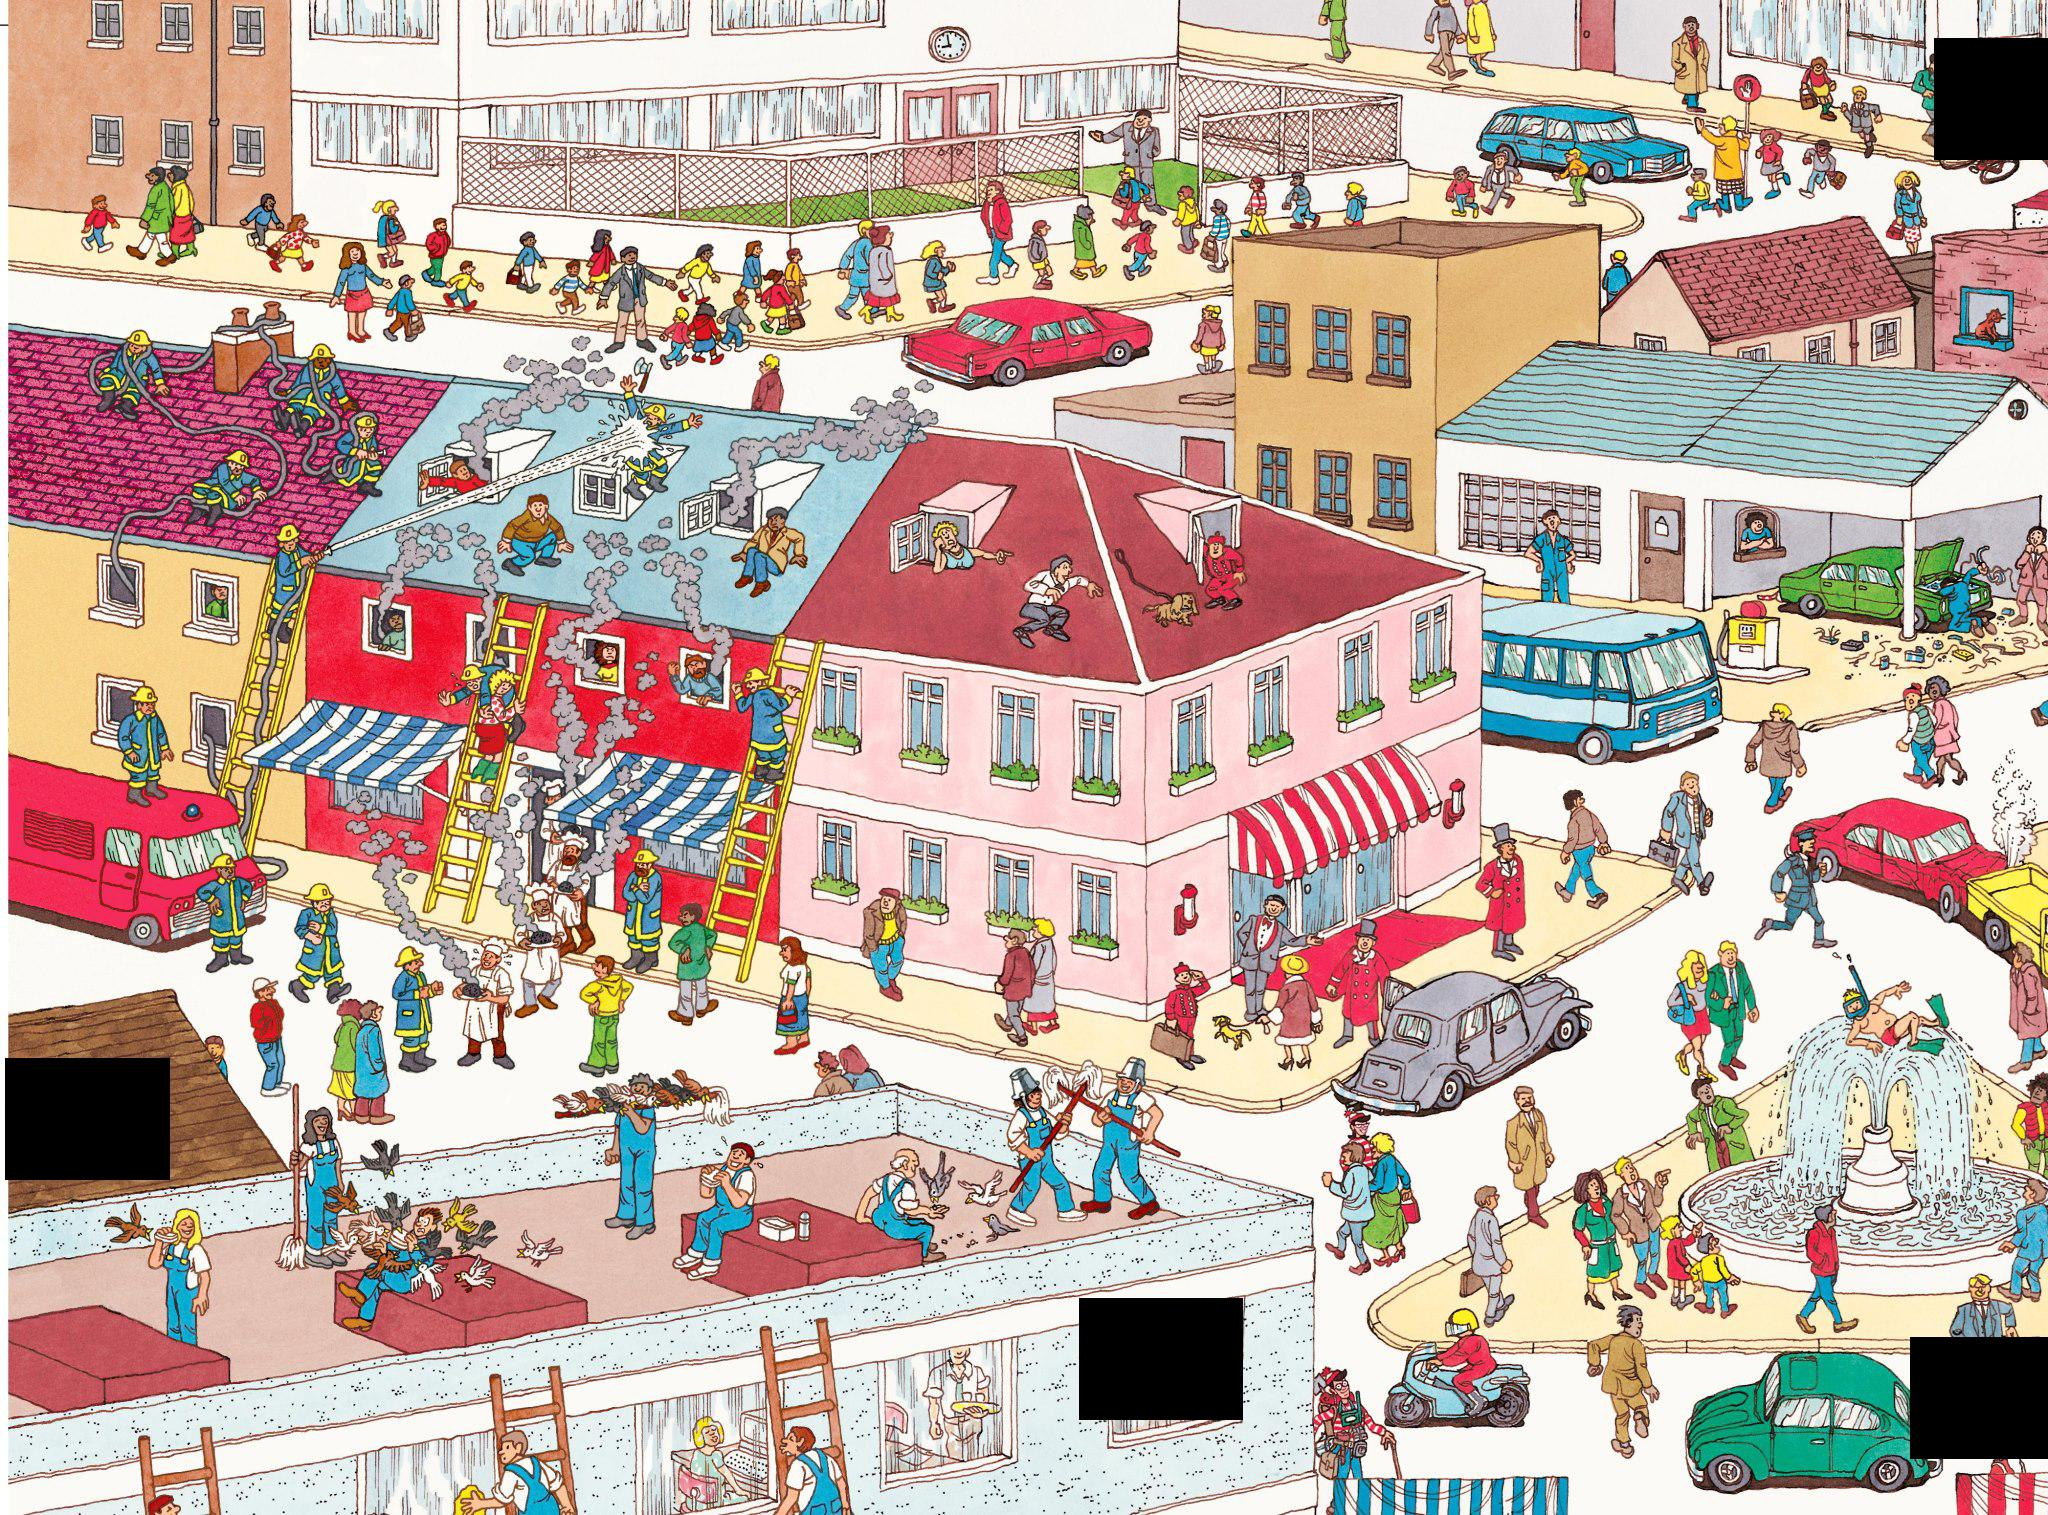waldo: (1321, 1365, 1349, 1397)
